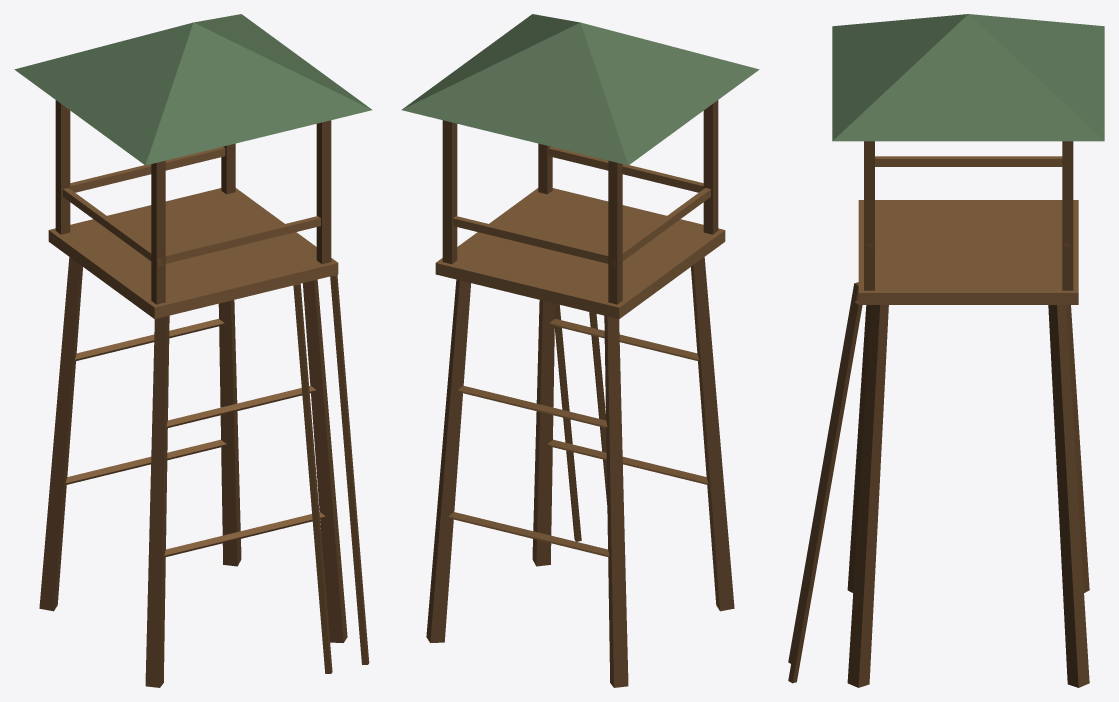
The model's file is lookout_tower.glb.
The picture shows the model from 3 angles, left to right: view 1: azimuth 30°, elevation 25°; view 2: azimuth 150°, elevation 25°; view 3: azimuth 270°, elevation 25°; orthographic projection. The views are drawn at different scales.
Parts seen in each view (by area): view 1: lookout_tower2; view 2: lookout_tower2; view 3: lookout_tower2.
Boxes of the visible parts, x1=… form: lookout_tower2: x1=14, y1=14, x2=372, y2=687; lookout_tower2: x1=401, y1=14, x2=759, y2=687; lookout_tower2: x1=788, y1=14, x2=1104, y2=687.
Bounding box in the file's own units: 2.1 × 5.32 × 2.45.
